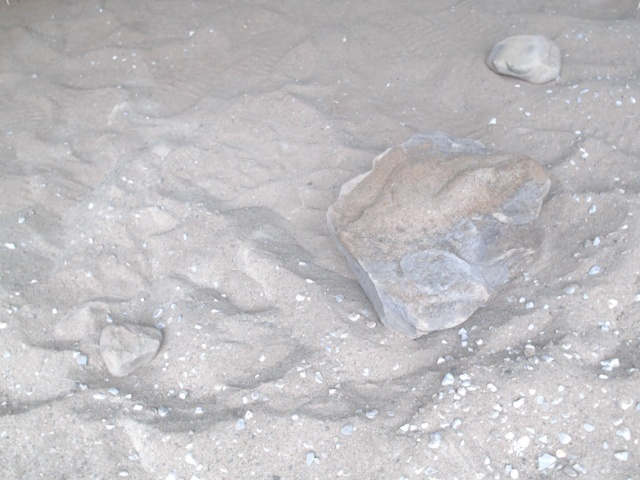rock: (322, 127, 555, 342), (482, 30, 566, 88), (94, 320, 167, 383)
